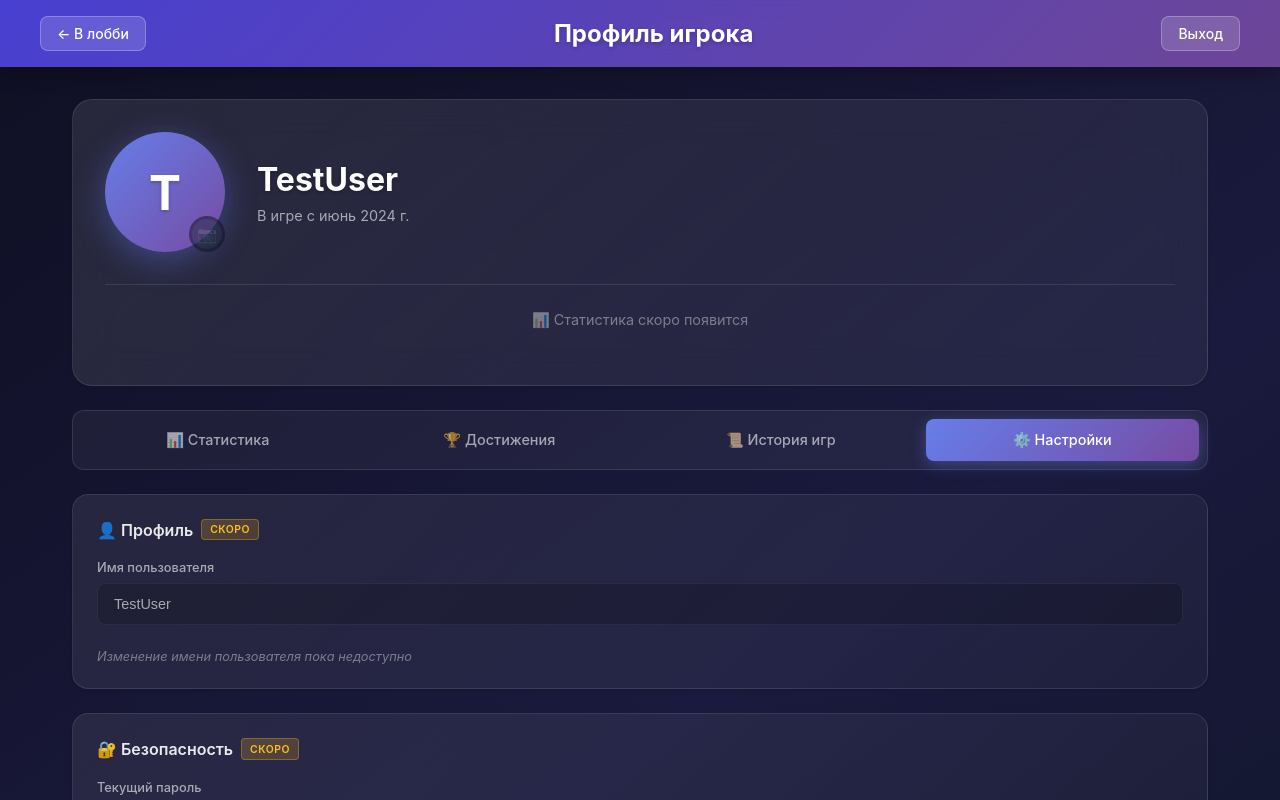
ProfilePage › переключается на таб статистики
What coordinates should you click on to do the following:
click the button "📊 Статистика"
I would click on:
 (218, 440)
Its box is [81, 419, 354, 461].
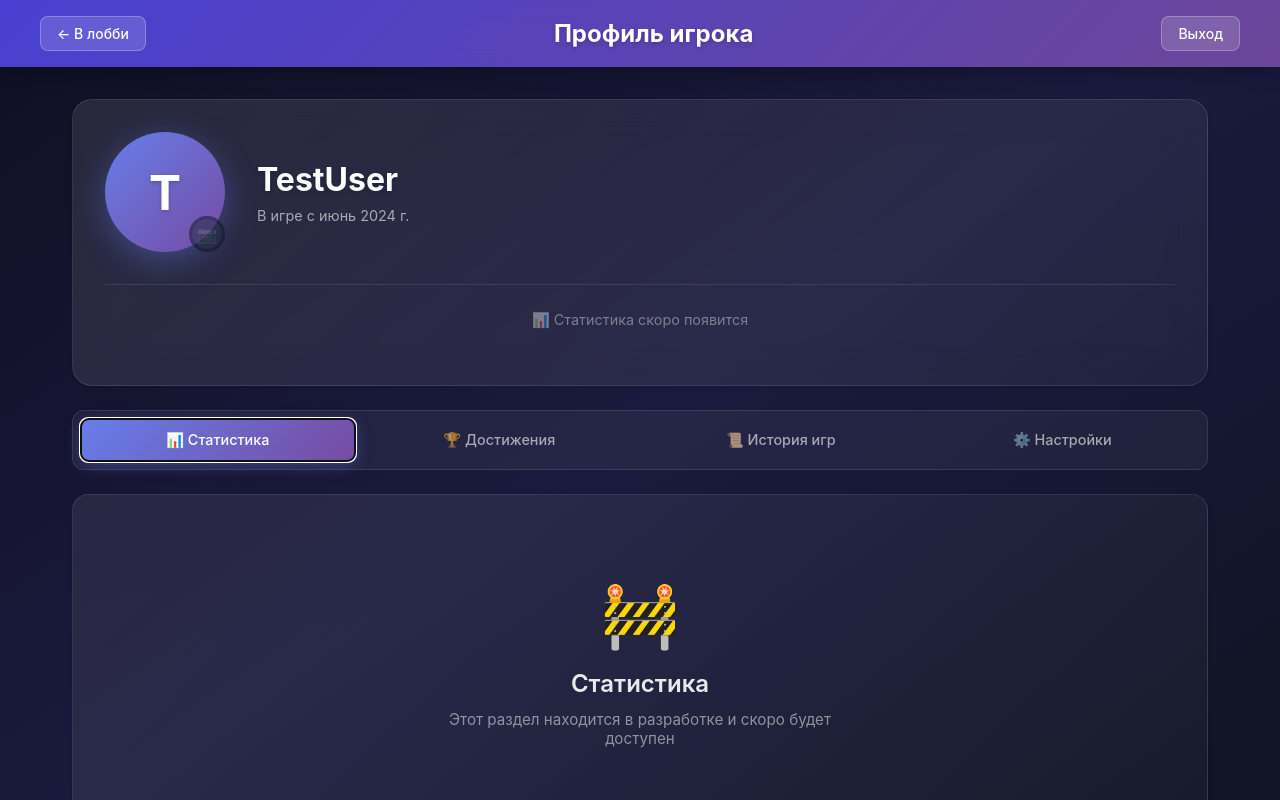
Result: the text "Этот раздел находится в разработке и скоро будет доступен" is shown at [440, 710, 840, 748]
